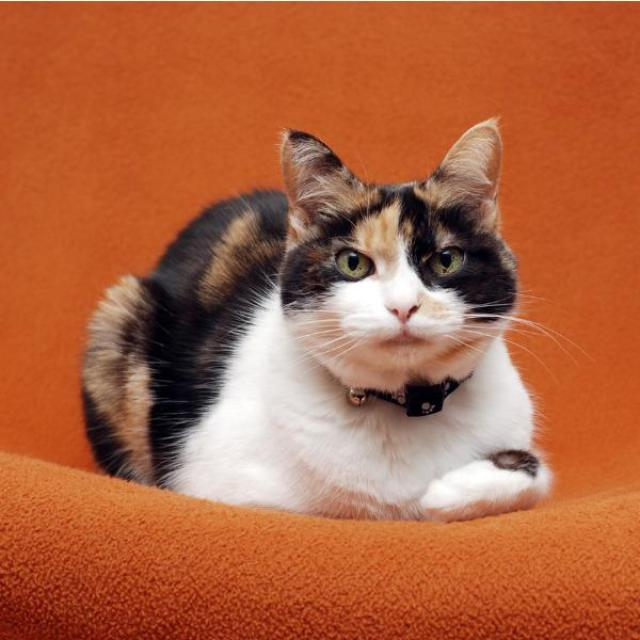Cat: (268, 119, 526, 399)
